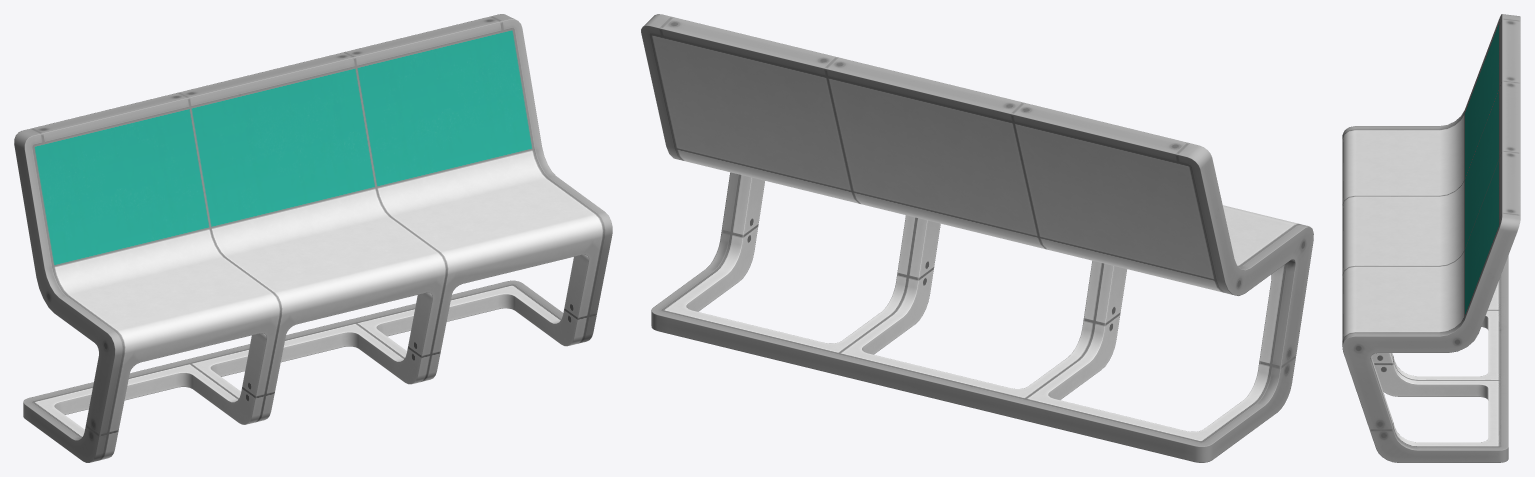
File: MedWaitingBench01_2.FBX
The picture shows the model from 3 angles, left to right: view 1: azimuth 30°, elevation 25°; view 2: azimuth 150°, elevation 25°; view 3: azimuth 270°, elevation 25°; orthographic projection. The views are drawn at different scales.
Parts seen in each view (by area): view 1: MedWaitingBench01_2; view 2: MedWaitingBench01_2; view 3: MedWaitingBench01_2.
Part boxes in pixels (x1,y1,x2,y2): MedWaitingBench01_2: (14,14,612,462); MedWaitingBench01_2: (641,14,1313,462); MedWaitingBench01_2: (1342,14,1520,462).
Size of what is drawn, in the model's own units: 1.91 by 1.02 by 0.6837.
